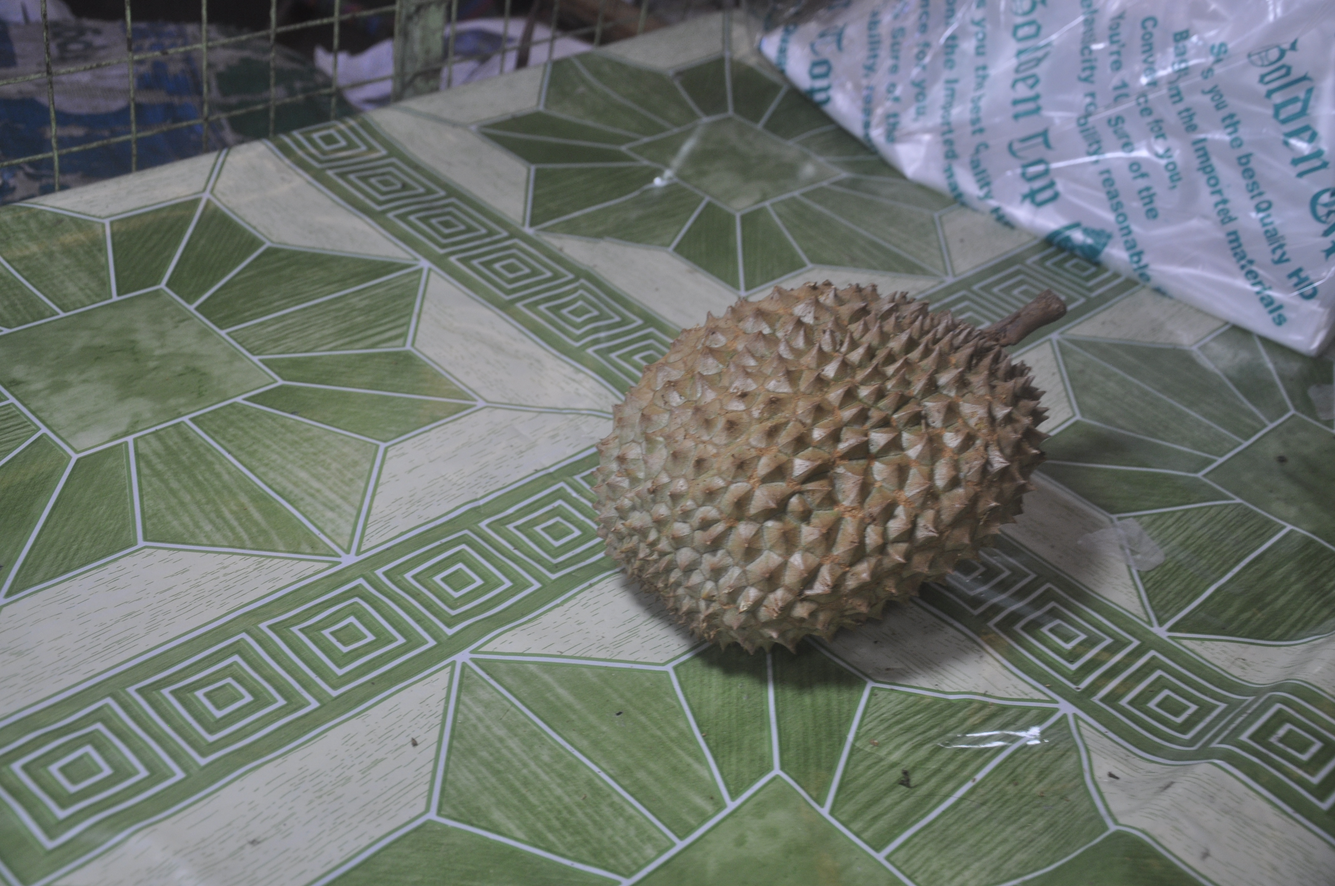mature: (593, 281, 1066, 652)
